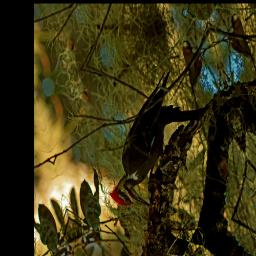Woodpecker: (86, 68, 203, 224)
